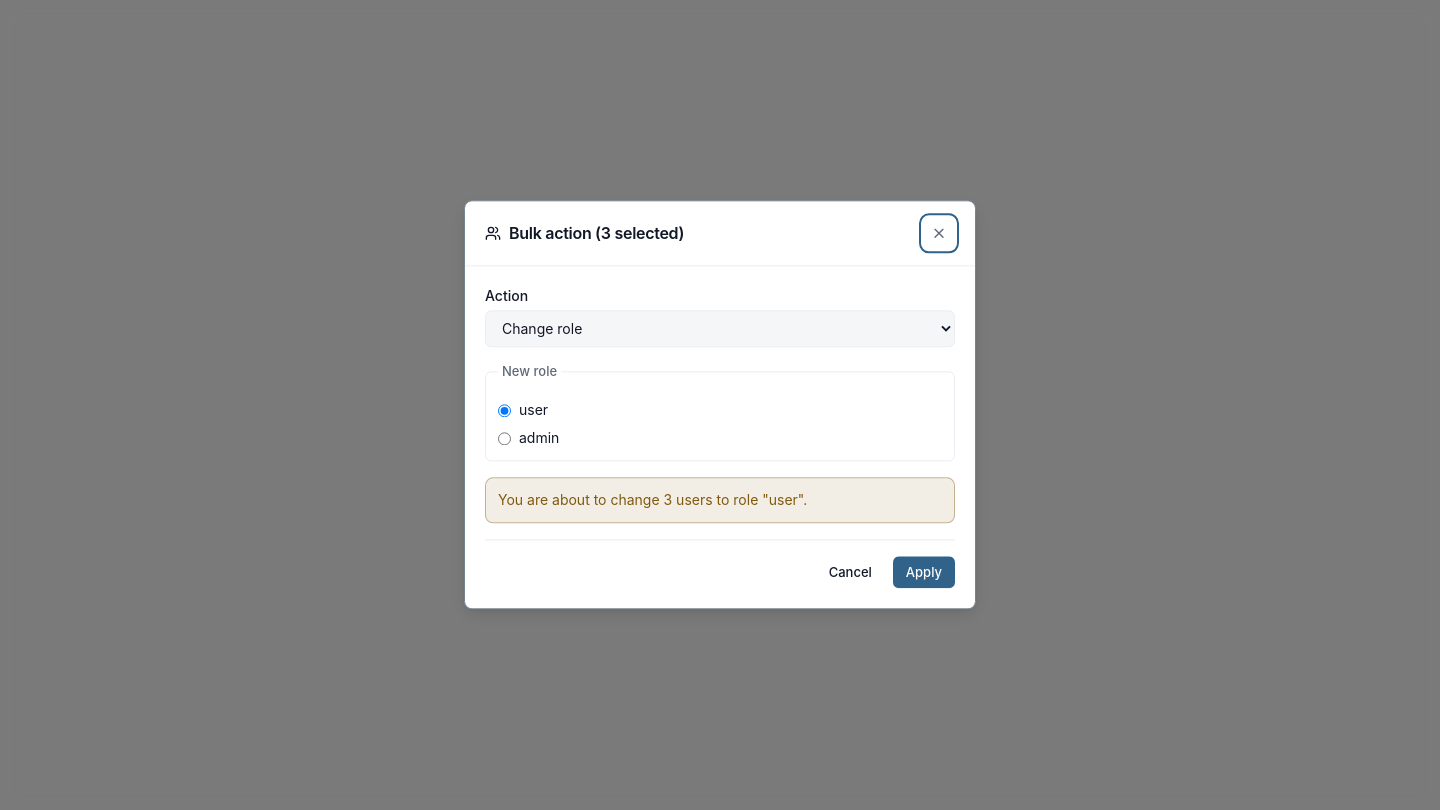
UserBulkActionDialog › hides the Roles hint when advanced_rbac is not licensed (bulk ops on)
Select "Add to group" in the dropdown with test id "bulk-action-kind" at (720, 329), box x1=485 y1=310 x2=955 y2=347
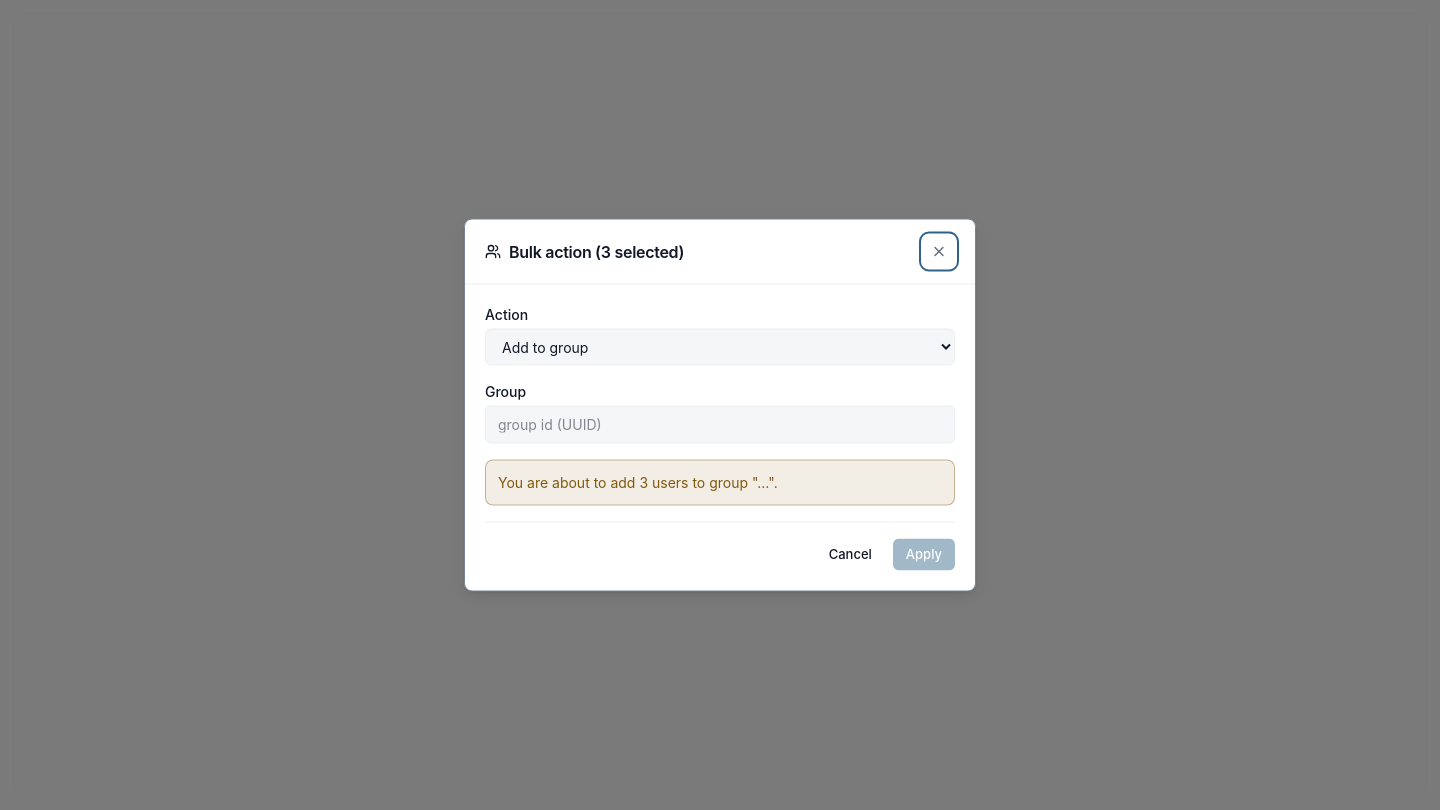
Result: the field with test id "bulk-action-group" is shown at x1=485 y1=406 x2=955 y2=444
